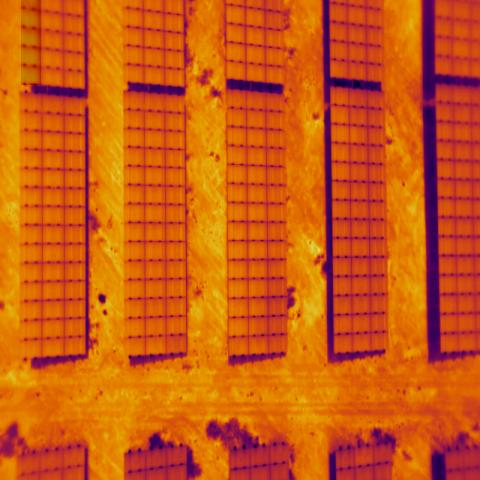fault: (22, 0, 42, 85)
